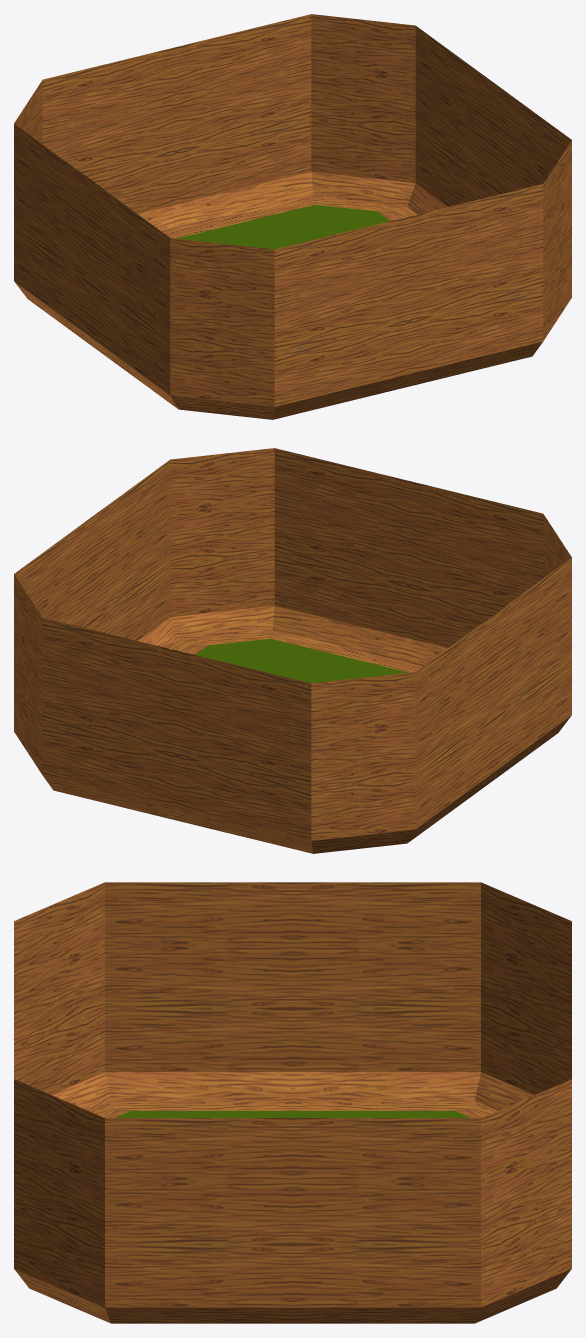
Rendered from Desk.FBX.
3 views of the same model, one above another, from view 1: azimuth 30°, elevation 25°; view 2: azimuth 150°, elevation 25°; view 3: azimuth 270°, elevation 25° (orthographic). The views are drawn at different scales.
Visible parts, largest first — view 1: Box004; view 2: Box004; view 3: Box004.
Boxes of the visible parts, x1,y1,x2,y2 form: Box004: (14,14,571,419); Box004: (14,448,571,853); Box004: (14,882,571,1323).
Size of the model in its own units: 118 by 49.53 by 118.
